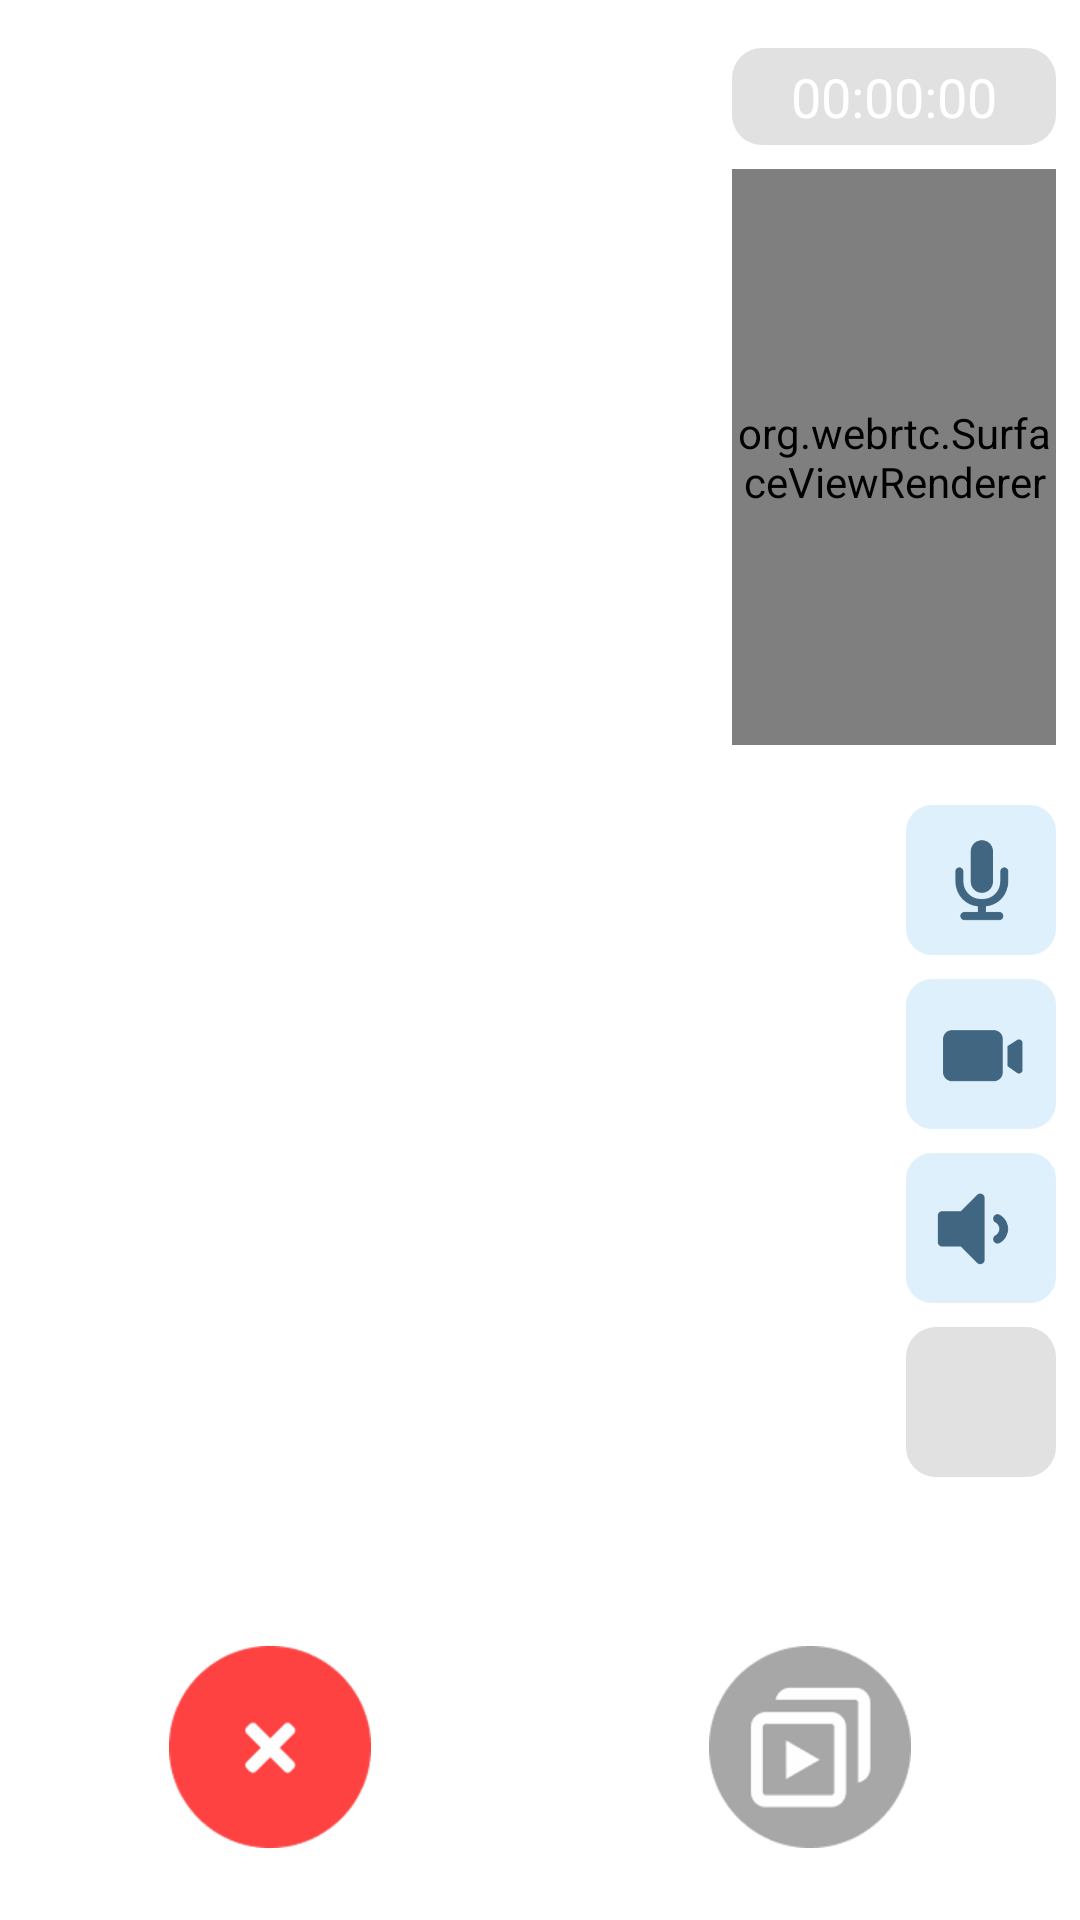

Point at icon controls on the screen. Image size 1080×1920, points as point (x, y).
endcall: point (270, 1747)
mic on: point (981, 880)
video on: point (981, 1054)
